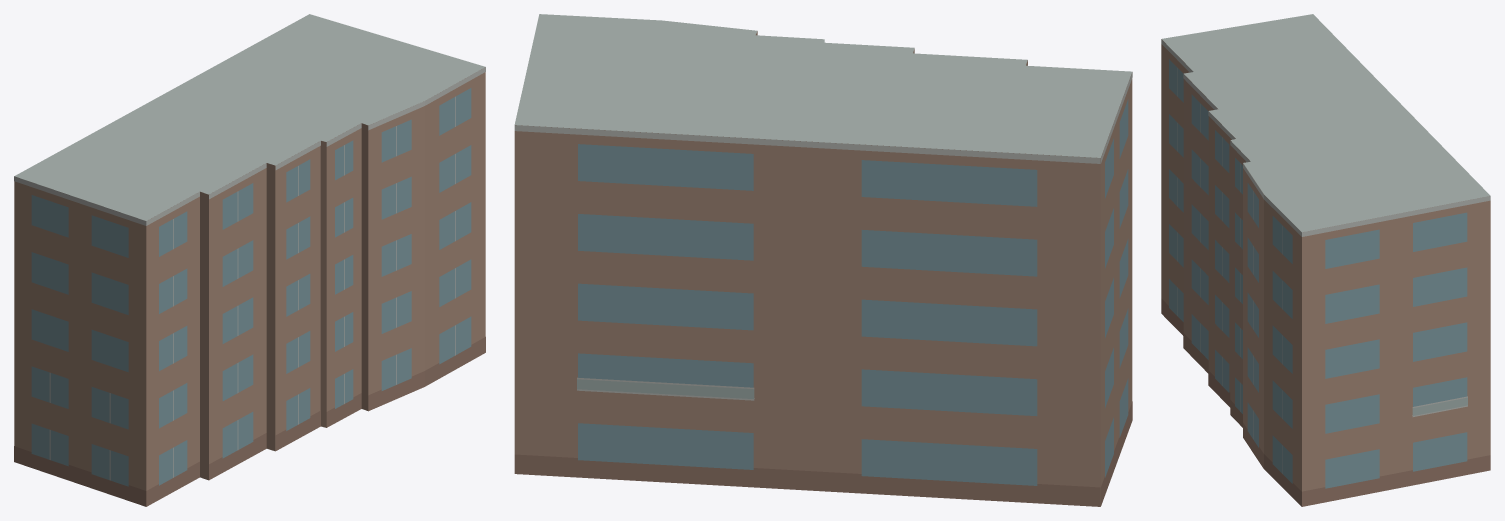
The model's file is survey-upis-32663134.glb.
3 views of the same model, side by side, from view 1: azimuth 30°, elevation 25°; view 2: azimuth 150°, elevation 25°; view 3: azimuth 270°, elevation 25° (orthographic). The views are drawn at different scales.
Visible parts, largest first — view 1: survey-upis-32663134.tmp; view 2: survey-upis-32663134.tmp; view 3: survey-upis-32663134.tmp.
Part boxes in pixels (<box>): survey-upis-32663134.tmp: <box>14,14,485,506</box>; survey-upis-32663134.tmp: <box>514,14,1132,506</box>; survey-upis-32663134.tmp: <box>1161,14,1490,506</box>.
Size of the model in its own units: 24.06 by 14.1 by 15.34.
